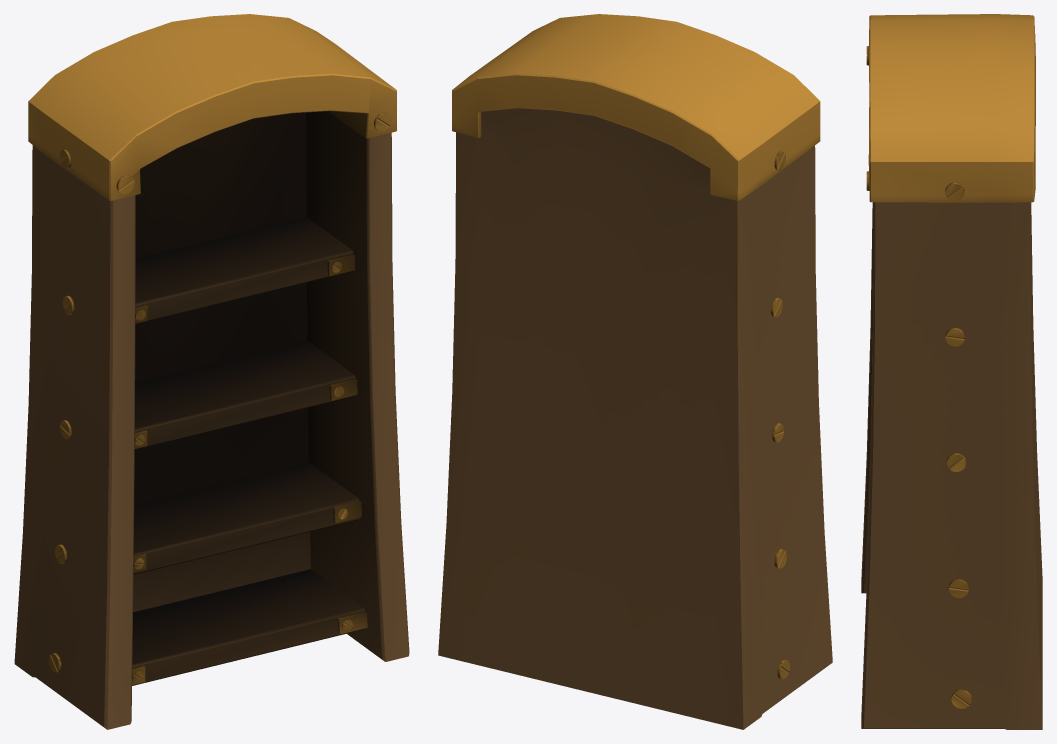
File: obj_closetSmall.FBX
3 views of the same model, side by side, from view 1: azimuth 30°, elevation 25°; view 2: azimuth 150°, elevation 25°; view 3: azimuth 270°, elevation 25° (orthographic).
Visible parts, largest first — view 1: obj_closetSmall; view 2: obj_closetSmall; view 3: obj_closetSmall.
Part boxes in pixels (x1=…): obj_closetSmall: x1=14, y1=14, x2=409, y2=729; obj_closetSmall: x1=438, y1=14, x2=832, y2=729; obj_closetSmall: x1=861, y1=14, x2=1042, y2=729.
Size of the model in its own units: 2.73 by 5.14 by 1.39.
